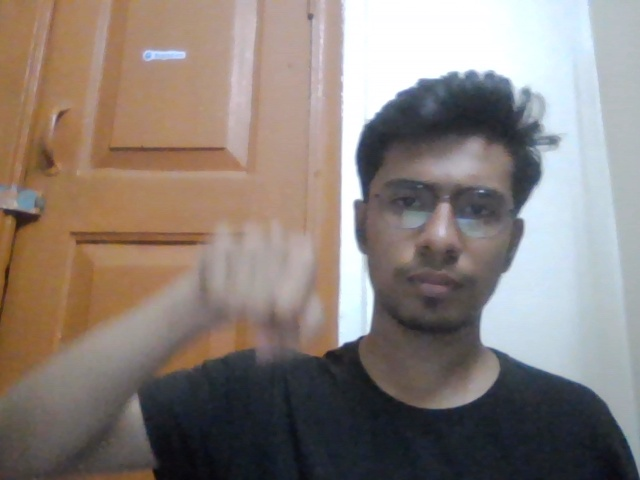Yes: (192, 213, 343, 359)
